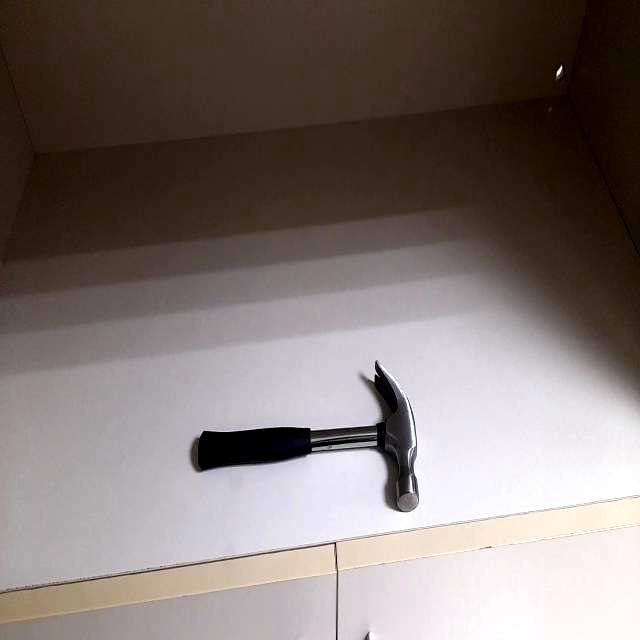hammer: (192, 357, 428, 518)
